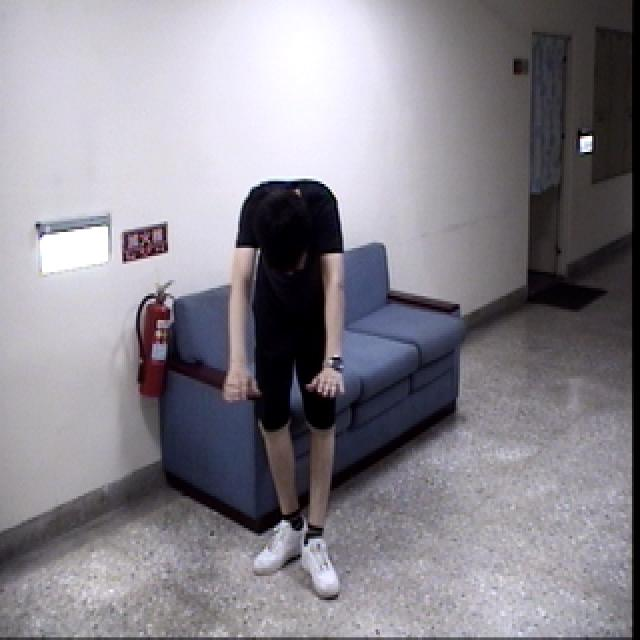bend: (218, 168, 367, 601)
